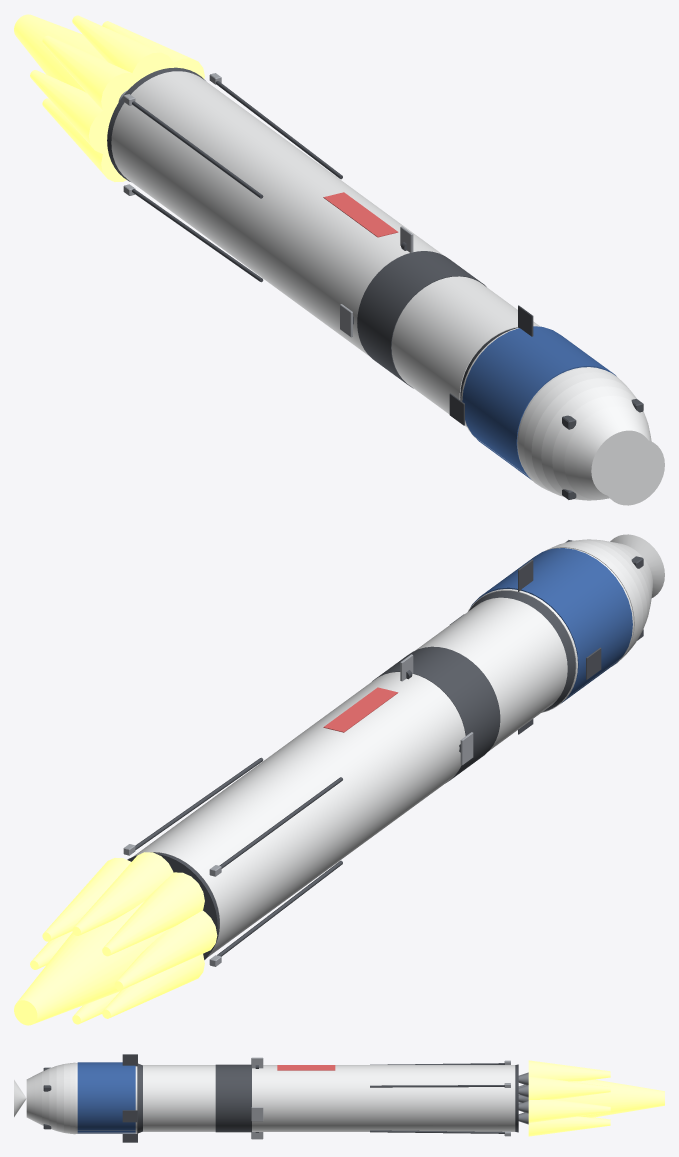
File: earth_launch_vehicle_stack.glb
3 views of the same model, one above another, from view 1: azimuth 30°, elevation 25°; view 2: azimuth 150°, elevation 25°; view 3: azimuth 270°, elevation 25° (orthographic). The views are drawn at different scales.
Visible parts, largest first — view 1: LaunchRocket_WhiteFuselage, LaunchRocket_BoosterPlume, LaunchRocket_CarbonBlackTrim, LaunchRocket_SolarCells, LaunchRocket_Insignia, LaunchRocket_GridFinsAndLegs; view 2: LaunchRocket_WhiteFuselage, LaunchRocket_BoosterPlume, LaunchRocket_CarbonBlackTrim, LaunchRocket_SolarCells, LaunchRocket_Insignia, LaunchRocket_GridFinsAndLegs; view 3: LaunchRocket_WhiteFuselage, LaunchRocket_BoosterPlume, LaunchRocket_CarbonBlackTrim, LaunchRocket_SolarCells, LaunchRocket_GridFinsAndLegs, LaunchRocket_EngineNozzles, LaunchRocket_Insignia.
Part boxes in pixels (bbox=[...]): LaunchRocket_WhiteFuselage: bbox=[111, 71, 664, 505]; LaunchRocket_BoosterPlume: bbox=[14, 14, 204, 181]; LaunchRocket_CarbonBlackTrim: bbox=[107, 67, 643, 499]; LaunchRocket_SolarCells: bbox=[462, 326, 616, 479]; LaunchRocket_Insignia: bbox=[323, 192, 398, 237]; LaunchRocket_GridFinsAndLegs: bbox=[123, 73, 413, 337]; LaunchRocket_WhiteFuselage: bbox=[133, 534, 664, 957]; LaunchRocket_BoosterPlume: bbox=[14, 852, 217, 1025]; LaunchRocket_CarbonBlackTrim: bbox=[127, 540, 643, 959]; LaunchRocket_SolarCells: bbox=[470, 548, 632, 703]; LaunchRocket_Insignia: bbox=[323, 687, 398, 732]; LaunchRocket_GridFinsAndLegs: bbox=[123, 654, 473, 966]; LaunchRocket_WhiteFuselage: bbox=[14, 1062, 515, 1134]; LaunchRocket_BoosterPlume: bbox=[528, 1060, 664, 1136]; LaunchRocket_CarbonBlackTrim: bbox=[43, 1054, 518, 1142]; LaunchRocket_SolarCells: bbox=[77, 1062, 135, 1133]; LaunchRocket_GridFinsAndLegs: bbox=[251, 1057, 510, 1139]; LaunchRocket_EngineNozzles: bbox=[518, 1072, 528, 1124]; LaunchRocket_Insignia: bbox=[277, 1065, 335, 1070].
Bounding box in the file's own units: 4.69 × 5.36 × 35.85.
